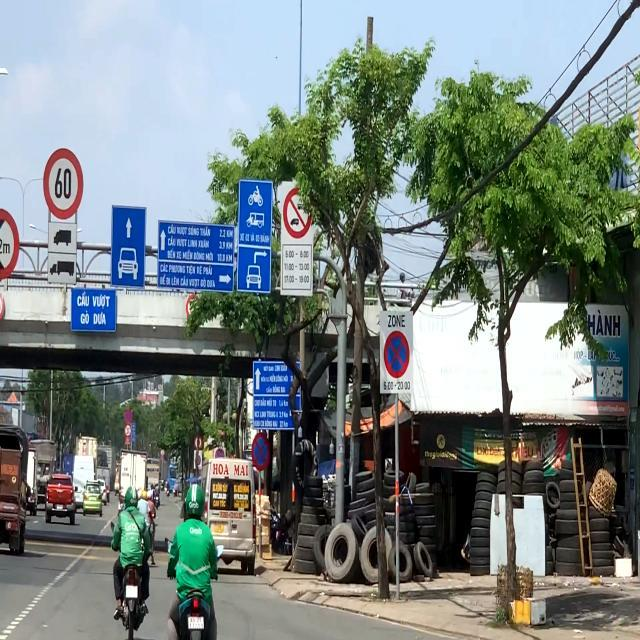Cam dung xe va do xe: (380, 331, 410, 382), (250, 431, 272, 472)
Toc do toi da cho phep: (40, 139, 90, 231)
